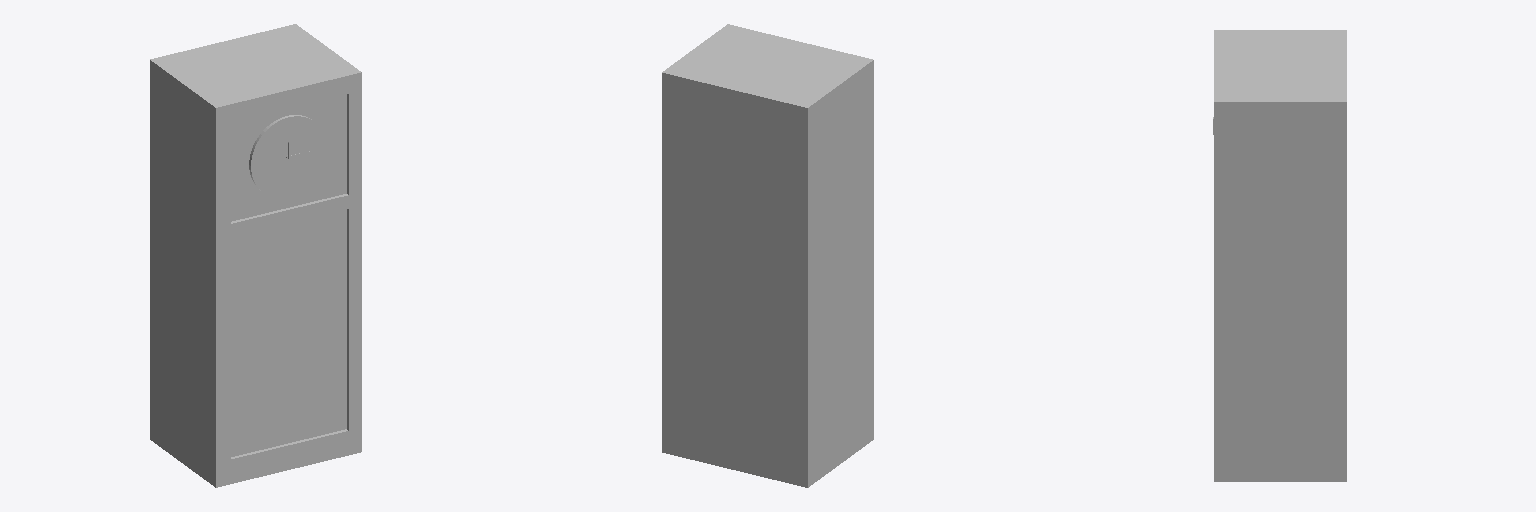
File: clock05.obj
3 views of the same model, side by side, from view 1: azimuth 30°, elevation 25°; view 2: azimuth 150°, elevation 25°; view 3: azimuth 270°, elevation 25° (orthographic).
Parts seen in each view (by area): view 1: box_Cube.004, clock_face_Cube.005; view 2: box_Cube.004; view 3: box_Cube.004.
Boxes of the visible parts, <box> form: box_Cube.004: <box>150,24,361,487</box>; clock_face_Cube.005: <box>249,115,326,197</box>; box_Cube.004: <box>662,24,873,487</box>; box_Cube.004: <box>1214,30,1346,481</box>.
Bounding box in the file's own units: 0.7645 × 1.9 × 0.6028.